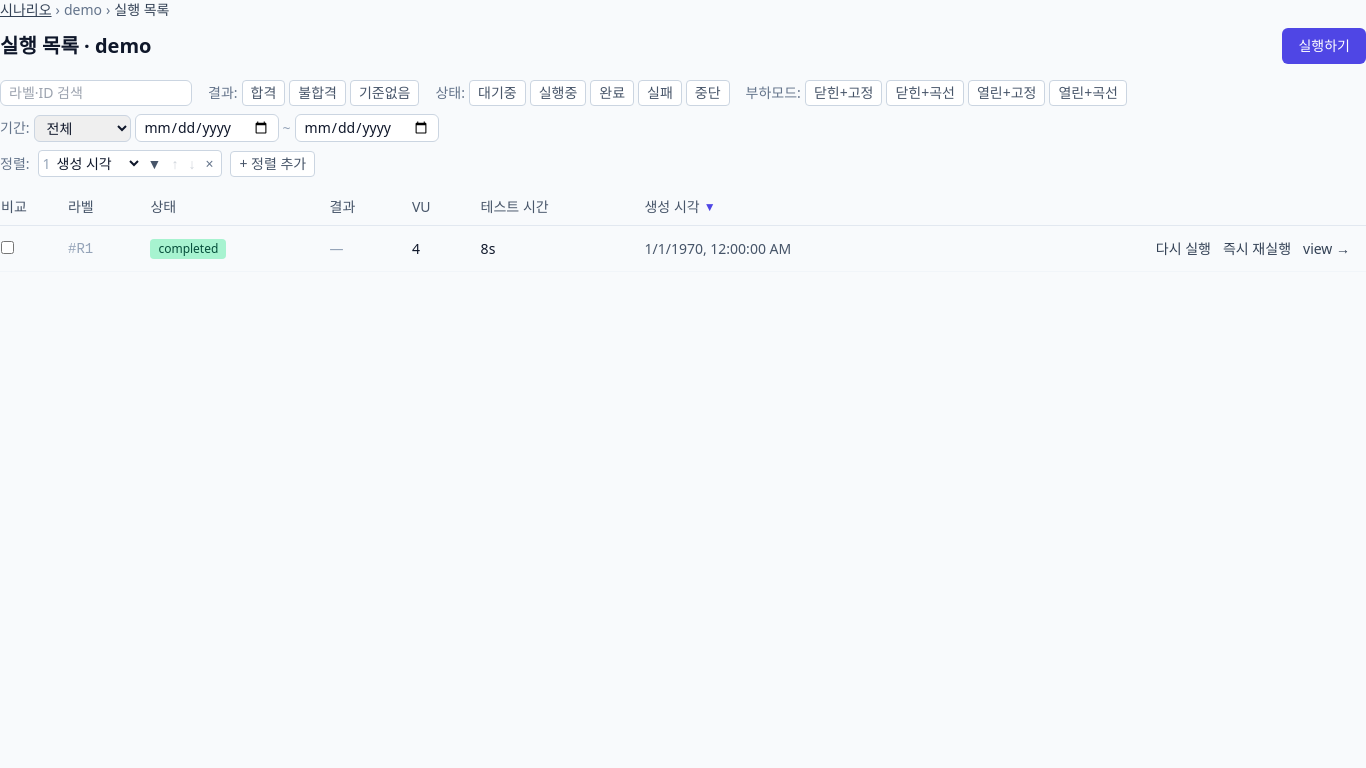
Test: ScenarioRunsPage — retry (A1) › '다시 실행' prefills the dialog from the run row
Click the button "다시 실행" at (1183, 248), box [1156,238,1211,258]
(page scrolled)
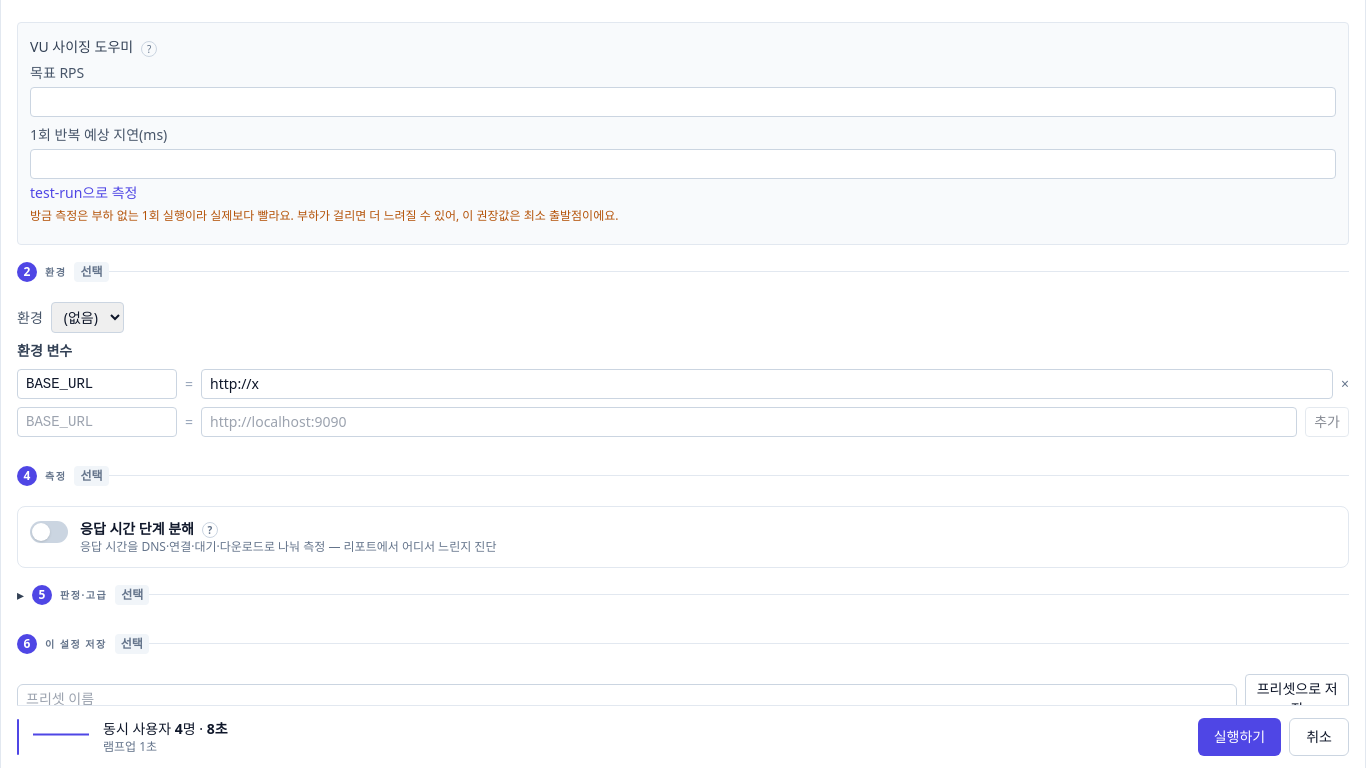
Check: the field named "환경 변수 키 0" holds "BASE_URL", box [17,369,177,399]
